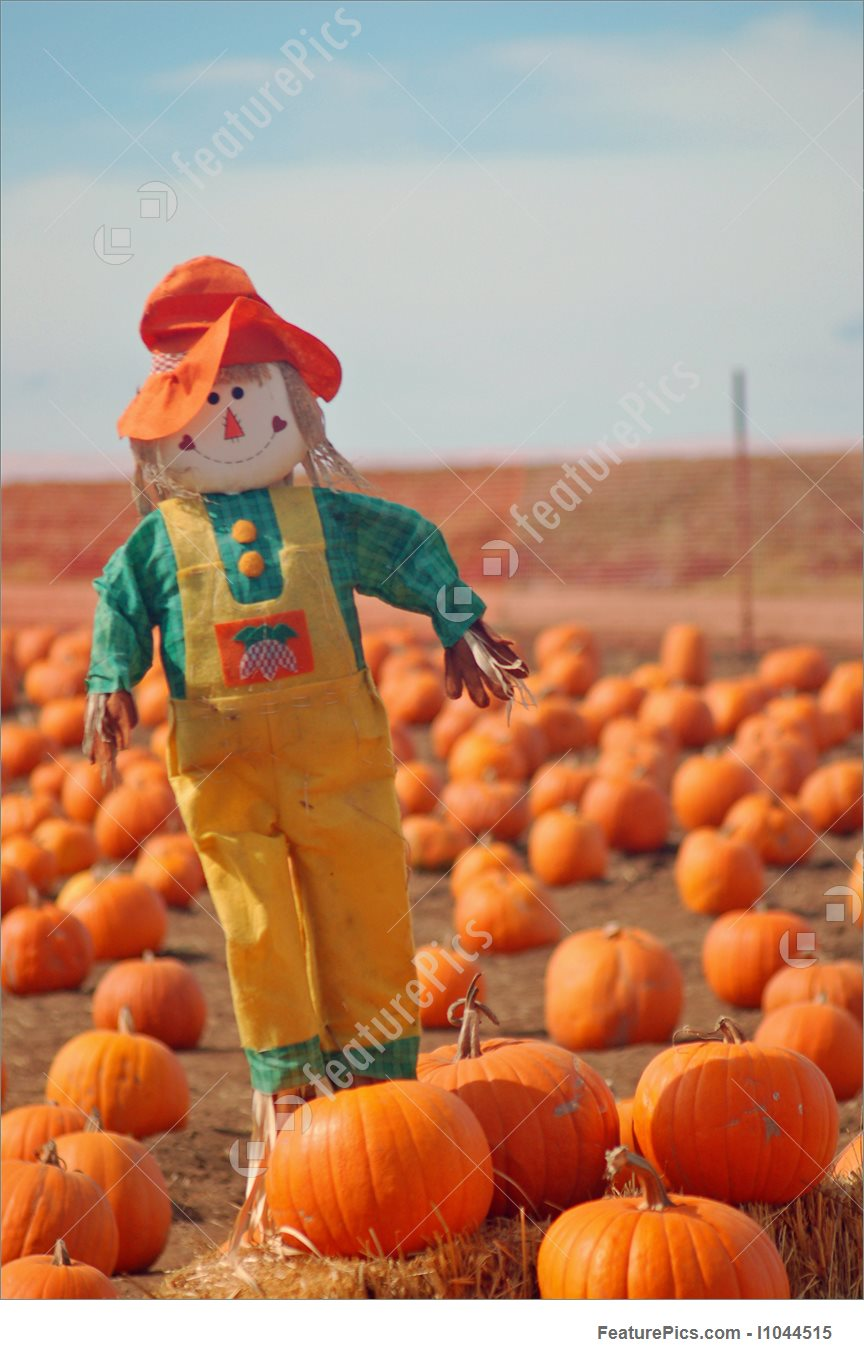person-like: (70, 233, 533, 1082)
